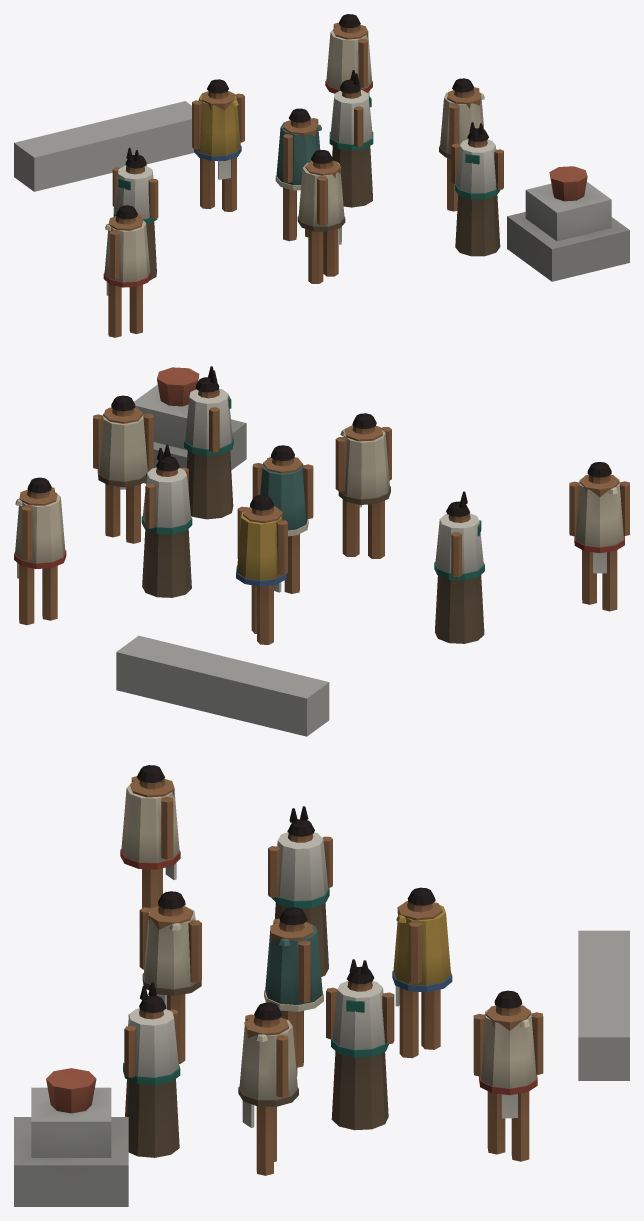
Rendered from crowd.glb.
3 views of the same model, one above another, from view 1: azimuth 30°, elevation 25°; view 2: azimuth 150°, elevation 25°; view 3: azimuth 270°, elevation 25° (orthographic). The views are drawn at different scales.
Visible parts, largest first — view 1: base; view 2: base; view 3: base.
Boxes of the visible parts, x1,y1,x2,y2 form: base: (14,14,629,337); base: (14,366,629,736); base: (14,765,629,1206).
Bounding box in the file's own units: 6.05 × 1.56 × 5.37.
